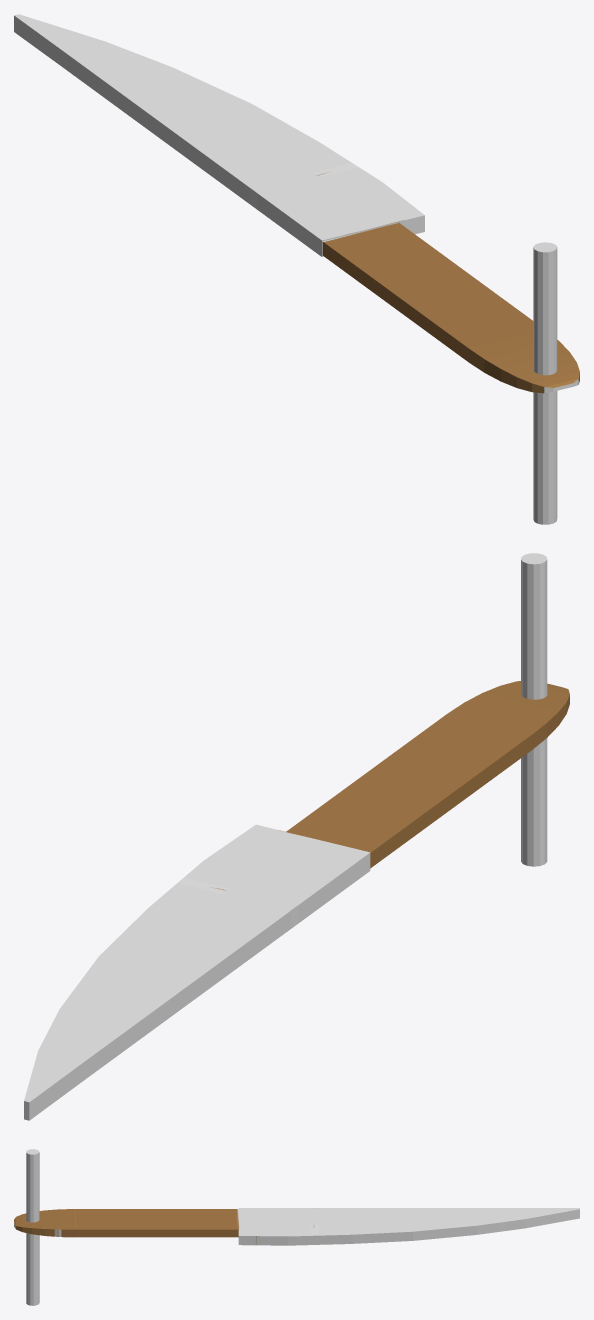
Rendered from Cuchillo (1).fbx.
3 views of the same model, one above another, from view 1: azimuth 30°, elevation 25°; view 2: azimuth 150°, elevation 25°; view 3: azimuth 270°, elevation 25° (orthographic). The views are drawn at different scales.
Parts seen in each view (by area): view 1: Plane.001, Cylinder; view 2: Plane.001, Cylinder; view 3: Plane.001, Cylinder.
Boxes of the visible parts, x1,y1,x2,y2 form: Plane.001: [14, 14, 579, 393]; Cylinder: [533, 242, 557, 524]; Plane.001: [24, 681, 569, 1120]; Cylinder: [521, 553, 547, 866]; Plane.001: [14, 1208, 579, 1245]; Cylinder: [26, 1149, 39, 1305].
Bounding box in the file's own units: 31.74 × 78.32 × 266.
Materials: 1 (1 with a texture image).
